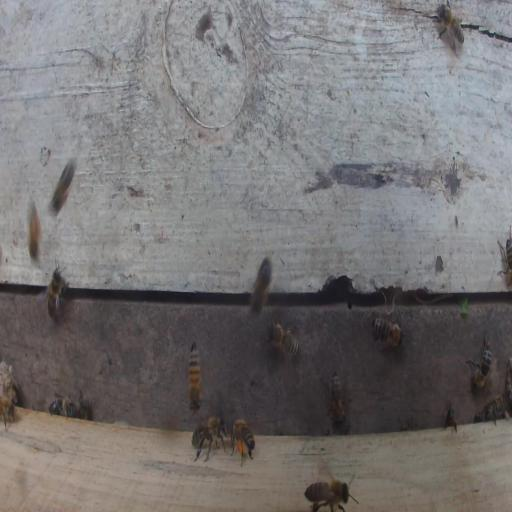nonpollenbee: (36, 256, 70, 321), (320, 371, 354, 428), (191, 416, 228, 466), (464, 328, 493, 389), (436, 0, 465, 58), (50, 155, 77, 212), (249, 255, 275, 314), (267, 317, 301, 360), (371, 317, 404, 352), (187, 341, 202, 413), (496, 223, 512, 290), (480, 392, 508, 426), (26, 202, 41, 258), (48, 391, 78, 417), (1, 395, 16, 430), (76, 388, 91, 419), (443, 407, 458, 434)
pollenbee: (301, 474, 353, 511), (229, 417, 256, 467)
